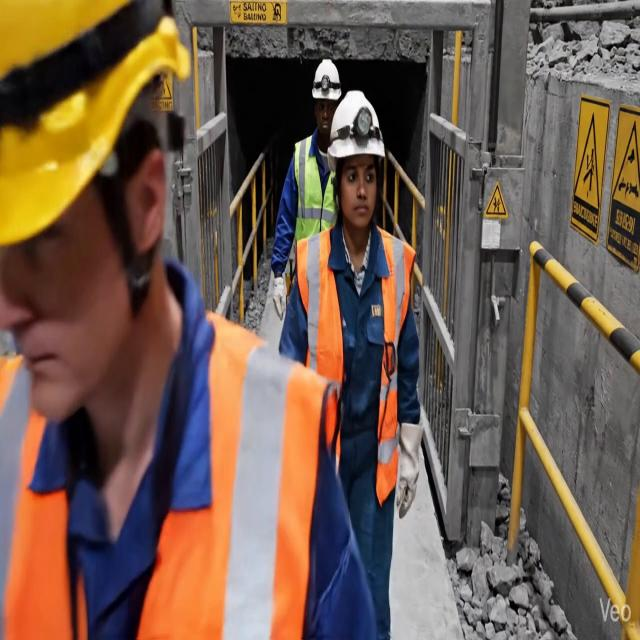Vest: (138, 314, 336, 639), (376, 229, 414, 504), (294, 136, 334, 246)
Worker: (0, 0, 374, 639), (279, 91, 422, 639), (271, 59, 341, 319)
helmet: (0, 0, 189, 245), (328, 91, 384, 171), (312, 59, 341, 100)
